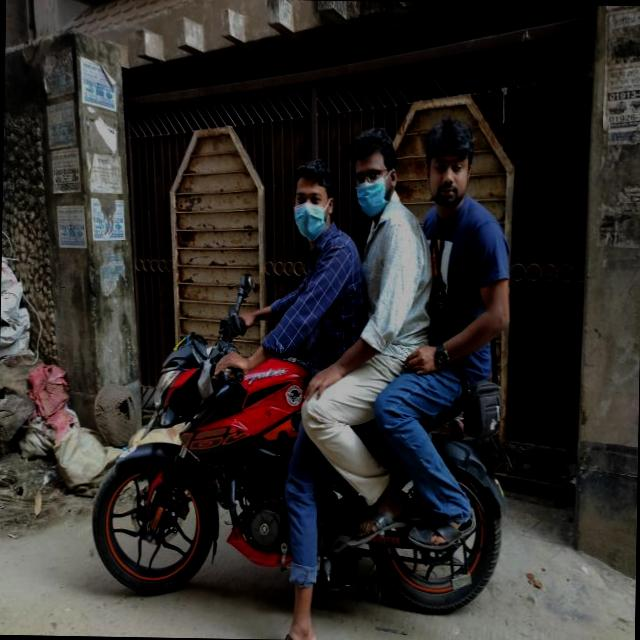motorcycle: (89, 319, 516, 622)
person: (338, 123, 447, 468), (416, 116, 526, 453), (276, 151, 376, 461)
